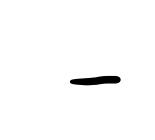minus: (69, 75, 120, 86)
